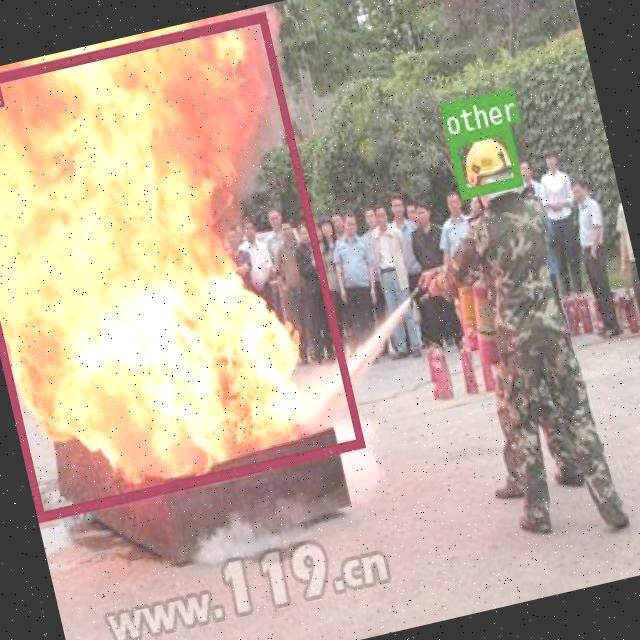fire: (0, 11, 362, 520)
